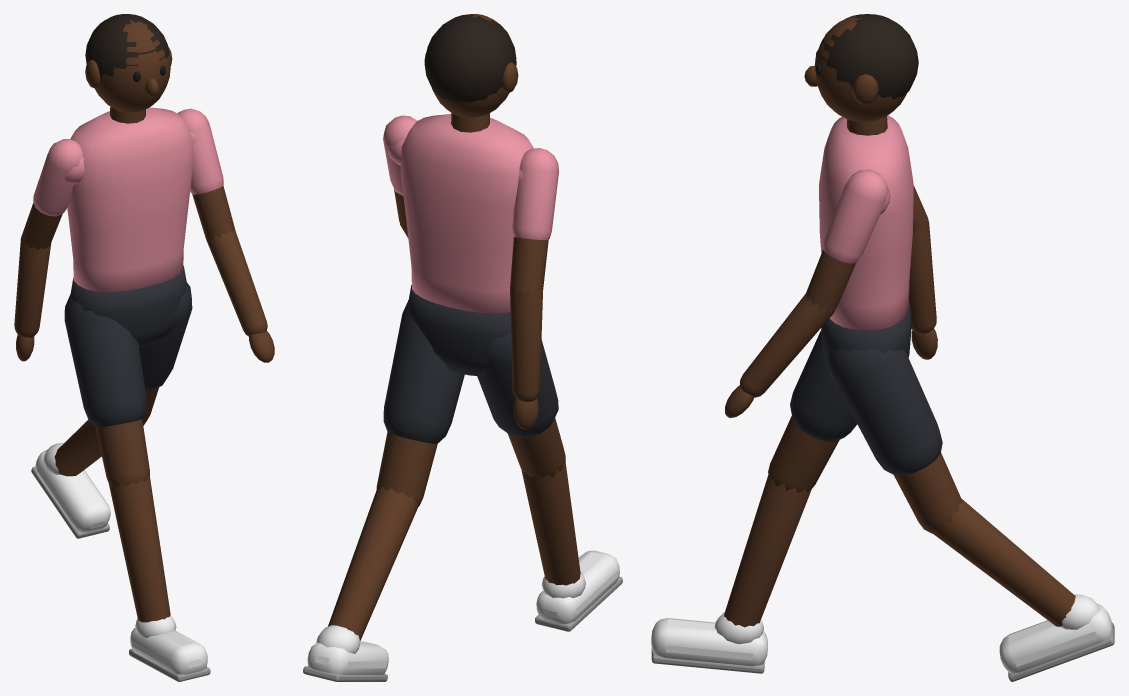
The model's file is jogger.fbx.
The picture shows the model from 3 angles, left to right: view 1: azimuth 30°, elevation 25°; view 2: azimuth 150°, elevation 25°; view 3: azimuth 270°, elevation 25°; orthographic projection. The views are drawn at different scales.
Visible parts, largest first — view 1: jogger; view 2: jogger; view 3: jogger.
Part boxes in pixels (<box>): jogger: <box>14,14,274,681</box>; jogger: <box>303,14,622,681</box>; jogger: <box>651,14,1114,681</box>.
Bounding box in the file's own units: 0.5254 × 1.7 × 1.07.
